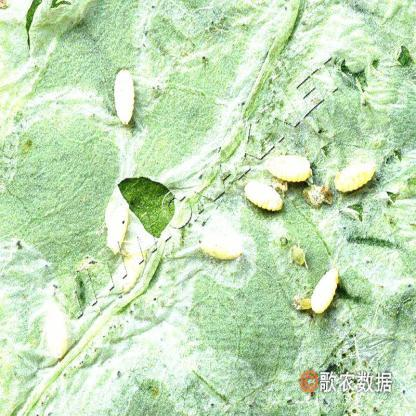whorl-maggot: (308, 258, 345, 318), (240, 175, 288, 220), (328, 156, 384, 192), (111, 61, 139, 128), (200, 229, 247, 265), (269, 149, 313, 186), (43, 300, 68, 360)
